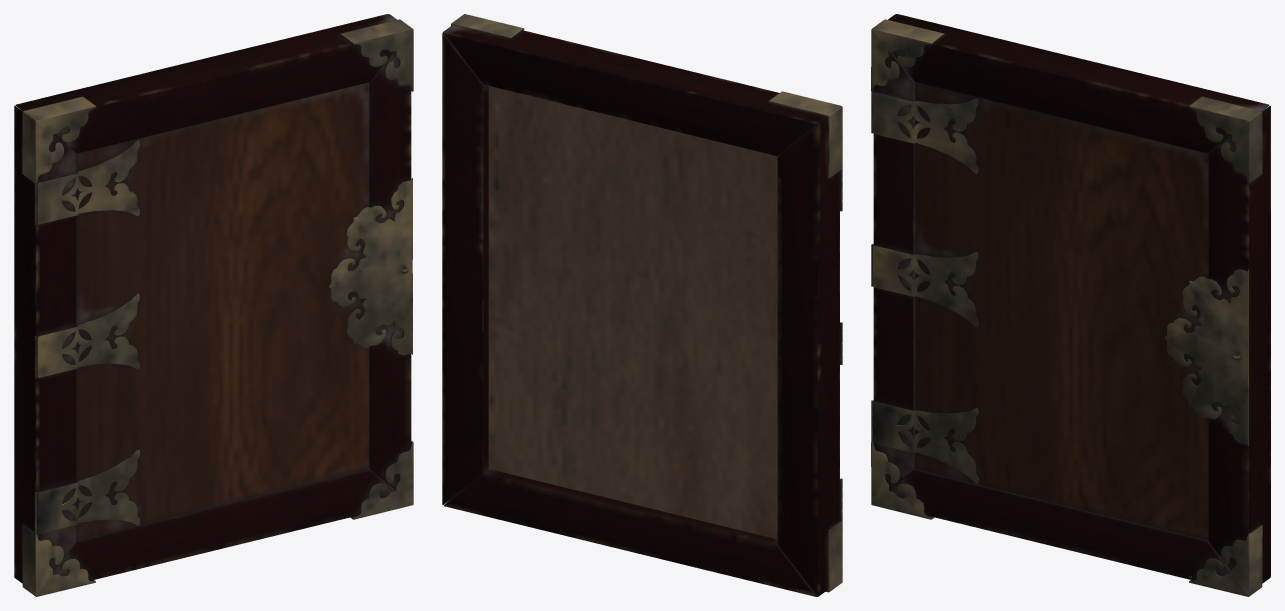
Rendered from SM_Cabinet240_doorBL.fbx.
The picture shows the model from 3 angles, left to right: view 1: azimuth 30°, elevation 25°; view 2: azimuth 150°, elevation 25°; view 3: azimuth 330°, elevation 25°; orthographic projection.
Parts seen in each view (by area): view 1: SM_Cabinet240_doorBL; view 2: SM_Cabinet240_doorBL; view 3: SM_Cabinet240_doorBL.
Boxes of the visible parts, x1,y1,x2,y2 form: SM_Cabinet240_doorBL: (14,14,413,596); SM_Cabinet240_doorBL: (442,14,842,596); SM_Cabinet240_doorBL: (871,14,1270,596).
Size of the model in its own units: 24.13 by 29.03 by 3.01.
Materials: 1 (1 with a texture image).
